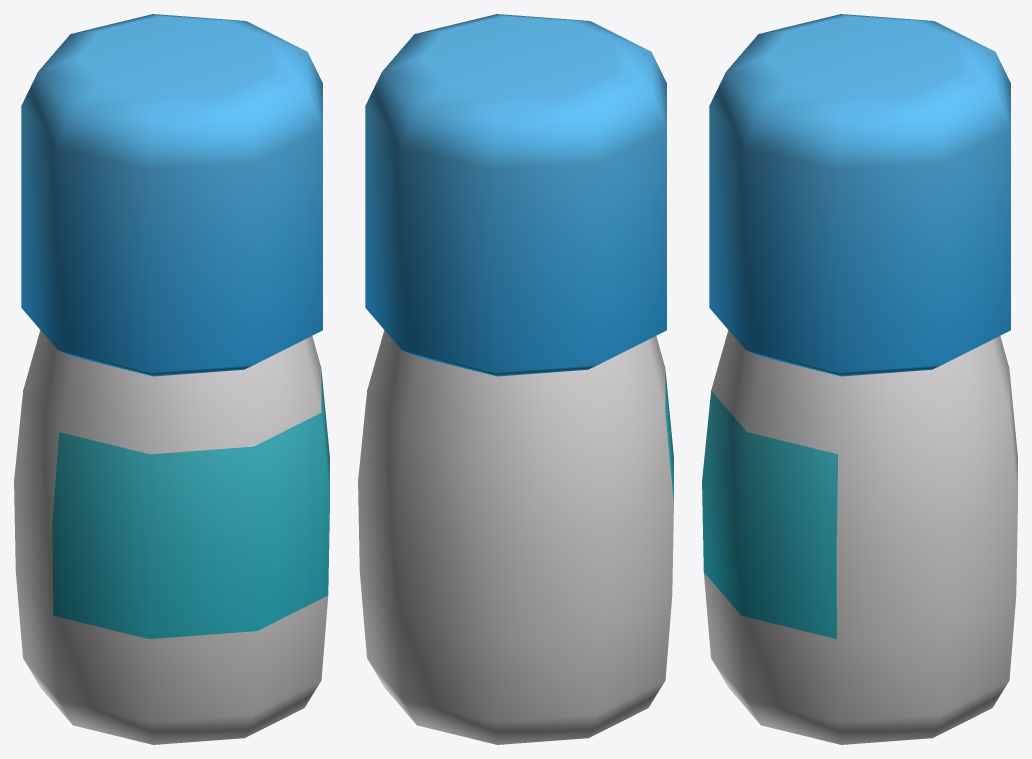
Rendered from Cream_07.glb.
The picture shows the model from 3 angles, left to right: view 1: azimuth 30°, elevation 25°; view 2: azimuth 150°, elevation 25°; view 3: azimuth 270°, elevation 25°; orthographic projection.
Parts seen in each view (by area): view 1: Cream_07; view 2: Cream_07; view 3: Cream_07.
Boxes of the visible parts, x1=… form: Cream_07: x1=14, y1=14, x2=329, y2=744; Cream_07: x1=358, y1=14, x2=673, y2=744; Cream_07: x1=702, y1=14, x2=1017, y2=744.
Bounding box in the file's own units: 0.1051 × 0.233 × 0.1035.
Materials: 1 (1 with a texture image).
